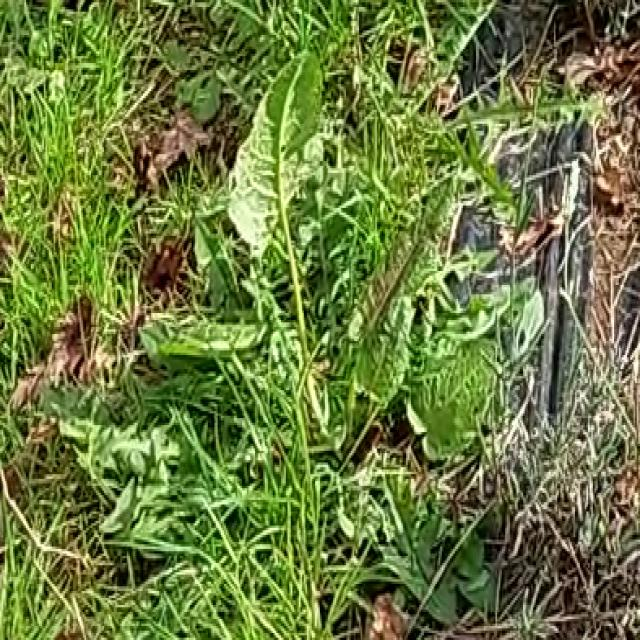organic waste: (135, 28, 499, 460)
